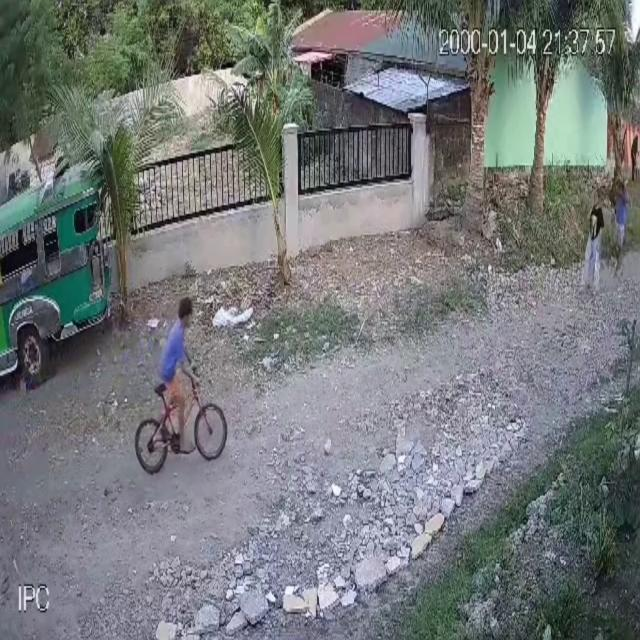walking: (582, 189, 607, 298), (610, 179, 632, 274)
